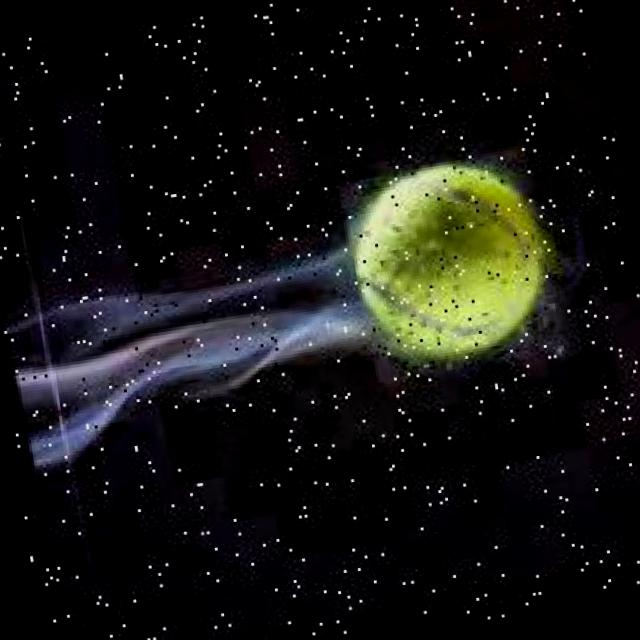Tennis Ball: (334, 147, 576, 398)
